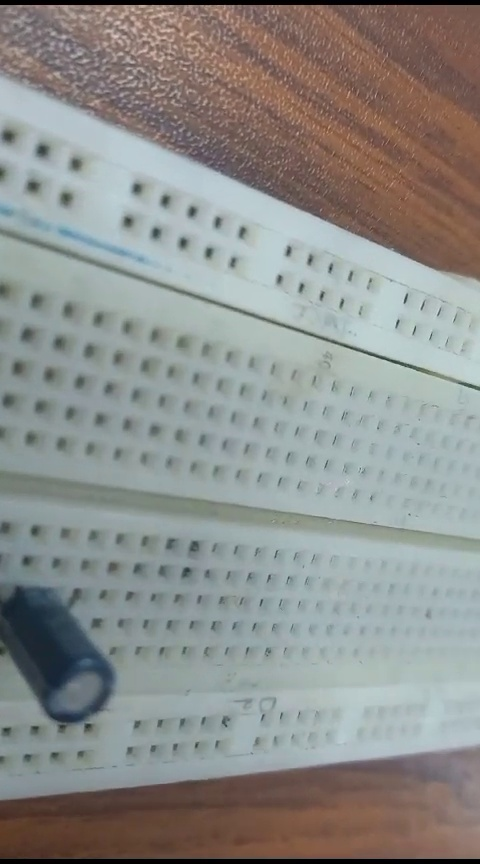capacitor: (8, 569, 120, 744)
